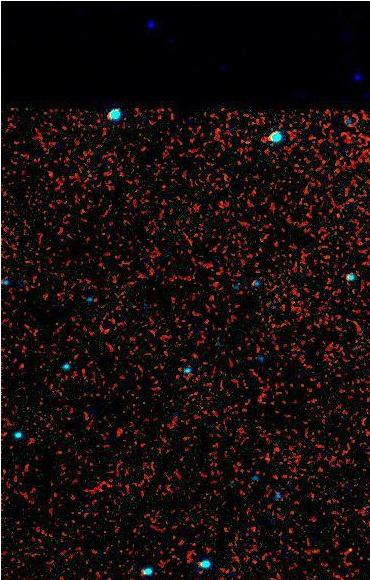star: (331, 531, 361, 561)
